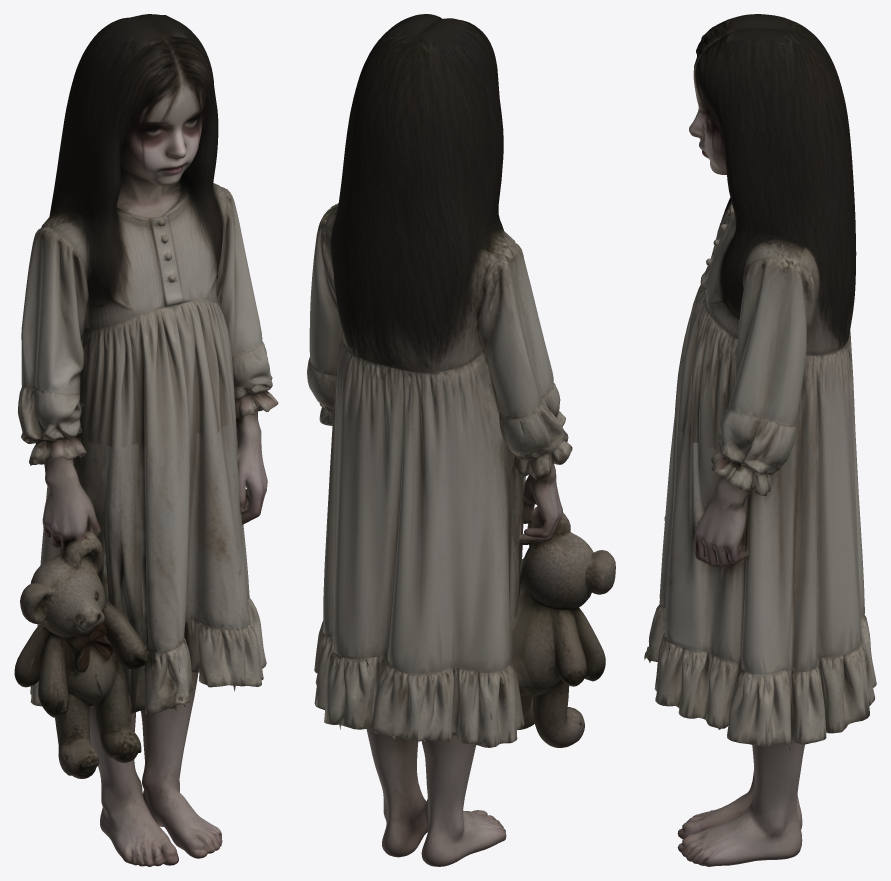
File: ChildrenScary.fbx
3 views of the same model, side by side, from view 1: azimuth 30°, elevation 25°; view 2: azimuth 150°, elevation 25°; view 3: azimuth 270°, elevation 25° (orthographic).
Parts seen in each view (by area): view 1: node_0; view 2: node_0; view 3: node_0.
Boxes of the visible parts, box(x1,y1,x2,y2) form: node_0: box(14, 14, 278, 866); node_0: box(307, 14, 615, 866); node_0: box(644, 14, 876, 866).
Size of the model in its own units: 41.31 by 118 by 30.03.
1 material, 1 textured.
